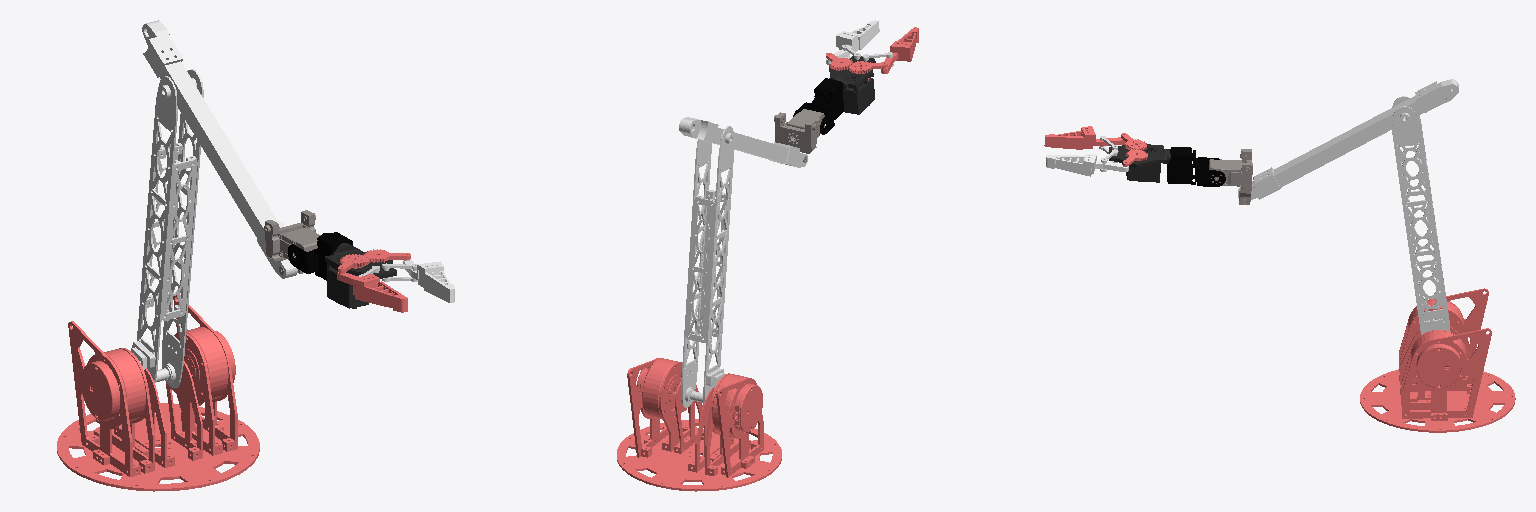
robot.urdf — robot_arm:
<?xml version="1.0" encoding="utf-8"?>
<!-- This URDF was automatically created by SolidWorks to URDF Exporter! Originally created by Stephen Brawner (brawner@gmail.com) 
     Commit Version: 1.6.0-4-g7f85cfe  Build Version: 1.6.7995.38578
     For more information, please see http://wiki.ros.org/sw_urdf_exporter -->
<robot
  name="robot_arm">
  <link
    name="base_link">
    <inertial>
      <origin
        xyz="-7.1599107469289E-07 0.00125850340914114 -0.0109955377241943"
        rpy="0 0 0" />
      <mass
        value="6.24740032536537" />
      <inertia
        ixx="0.0480929190961687"
        ixy="3.0344005395962E-06"
        ixz="6.02223981344259E-10"
        iyy="0.0334121460673024"
        iyz="-3.52627326326953E-08"
        izz="0.0700847502827141" />
    </inertial>
    <visual>
      <origin
        xyz="0 0 0"
        rpy="0 0 0" />
      <geometry>
        <mesh
          filename="meshes/base_link.STL" />
      </geometry>
      <material
        name="">
        <color
          rgba="0.929411764705882 0.929411764705882 0.929411764705882 1" />
      </material>
    </visual>
    <collision>
      <origin
        xyz="0 0 0"
        rpy="0 0 0" />
      <geometry>
        <mesh
          filename="meshes/base_link.STL" />
      </geometry>
    </collision>
  </link>
  <link
    name="Link1">
    <inertial>
      <origin
        xyz="-0.000568394778911234 0.000510407268203998 0.0462089845418148"
        rpy="0 0 0" />
      <mass
        value="0.64013673811769" />
      <inertia
        ixx="0.00103941845053171"
        ixy="7.20624730683044E-06"
        ixz="1.56727223560628E-06"
        iyy="0.000810612959129231"
        iyz="-4.88477486989381E-05"
        izz="0.00125421057808677" />
    </inertial>
    <visual>
      <origin
        xyz="0 0 0"
        rpy="0 0 0" />
      <geometry>
        <mesh
          filename="meshes/Link1.STL" />
      </geometry>
      <material
        name="">
        <color
          rgba="1 0.501960784313725 0.501960784313725 1" />
      </material>
    </visual>
    <collision>
      <origin
        xyz="0 0 0"
        rpy="0 0 0" />
      <geometry>
        <mesh
          filename="meshes/Link1.STL" />
      </geometry>
    </collision>
  </link>
  <joint
    name="joint_1"
    type="revolute">
    <origin
      xyz="0 0 0"
      rpy="0 0 0" />
    <parent
      link="base_link" />
    <child
      link="Link1" />
    <axis
      xyz="0 0 1" />
    <limit
      lower="-6.28"
      upper="6.28"
      effort="100"
      velocity="5" />
  </joint>
  <link
    name="Link2">
    <inertial>
      <origin
        xyz="0.0150698999287542 -0.116804702266282 -0.00392298933781063"
        rpy="0 0 0" />
      <mass
        value="0.174056774495382" />
      <inertia
        ixx="0.00116652312415811"
        ixy="0.00014880980175167"
        ixz="-6.94815069616716E-08"
        iyy="3.84471128451776E-05"
        iyz="5.35737093099818E-07"
        izz="0.00119824224597013" />
    </inertial>
    <visual>
      <origin
        xyz="0 0 0"
        rpy="0 0 0" />
      <geometry>
        <mesh
          filename="meshes/Link2.STL" />
      </geometry>
      <material
        name="">
        <color
          rgba="0.929411764705882 0.929411764705882 0.929411764705882 1" />
      </material>
    </visual>
    <collision>
      <origin
        xyz="0 0 0"
        rpy="0 0 0" />
      <geometry>
        <mesh
          filename="meshes/Link2.STL" />
      </geometry>
    </collision>
  </link>
  <joint
    name="joint_2"
    type="revolute">
    <origin
      xyz="0 0 0.0815"
      rpy="-1.5708 0 -1.5387" />
    <parent
      link="Link1" />
    <child
      link="Link2" />
    <axis
      xyz="0 0 1" />
    <limit
      lower="-3.14"
      upper="3.14"
      effort="100"
      velocity="5" />
  </joint>
  <link
    name="Link3">
    <inertial>
      <origin
        xyz="0.0575274562642535 -0.031495591159611 0.0122785656751549"
        rpy="0 0 0" />
      <mass
        value="0.101805028572906" />
      <inertia
        ixx="8.40216737936915E-05"
        ixy="0.000132400762360107"
        ixz="-9.42361264755749E-07"
        iyy="0.000244439922310472"
        iyz="5.35579573502367E-07"
        izz="0.000319167281177822" />
    </inertial>
    <visual>
      <origin
        xyz="0 0 0"
        rpy="0 0 0" />
      <geometry>
        <mesh
          filename="meshes/Link3.STL" />
      </geometry>
      <material
        name="">
        <color
          rgba="0.929411764705882 0.929411764705882 0.929411764705882 1" />
      </material>
    </visual>
    <collision>
      <origin
        xyz="0 0 0"
        rpy="0 0 0" />
      <geometry>
        <mesh
          filename="meshes/Link3.STL" />
      </geometry>
    </collision>
  </link>
  <joint
    name="joint_3"
    type="revolute">
    <origin
      xyz="0.045016 -0.34709 0.0125"
      rpy="-3.1416 0 0" />
    <parent
      link="Link2" />
    <child
      link="Link3" />
    <axis
      xyz="0 0 1" />
    <limit
      lower="-3.14"
      upper="3.14"
      effort="100"
      velocity="5" />
  </joint>
  <link
    name="Link4">
    <inertial>
      <origin
        xyz="0.0117492142295084 -0.0304843511220854 -0.00303190404653959"
        rpy="0 0 0" />
      <mass
        value="0.0672771461686466" />
      <inertia
        ixx="1.66499334850355E-05"
        ixy="-1.77706988105153E-07"
        ixz="-1.86235227610271E-07"
        iyy="1.5984012997816E-05"
        iyz="-1.26109125103786E-06"
        izz="1.31759381275724E-05" />
    </inertial>
    <visual>
      <origin
        xyz="0 0 0"
        rpy="0 0 0" />
      <geometry>
        <mesh
          filename="meshes/Link4.STL" />
      </geometry>
      <material
        name="">
        <color
          rgba="0.643137254901961 0.615686274509804 0.6 1" />
      </material>
    </visual>
    <collision>
      <origin
        xyz="0 0 0"
        rpy="0 0 0" />
      <geometry>
        <mesh
          filename="meshes/Link4.STL" />
      </geometry>
    </collision>
  </link>
  <joint
    name="joint_4"
    type="revolute">
    <origin
      xyz="0.21646 -0.12001 0.00875"
      rpy="-3.1416 0 0" />
    <parent
      link="Link3" />
    <child
      link="Link4" />
    <axis
      xyz="0 0 -1" />
    <limit
      lower="-3.14"
      upper="3.14"
      effort="100"
      velocity="5" />
  </joint>
  <link
    name="Link5">
    <inertial>
      <origin
        xyz="0.0395390076122797 -0.00856799711636441 -0.020249999184851"
        rpy="0 0 0" />
      <mass
        value="0.0508906638155019" />
      <inertia
        ixx="1.17641499644766E-05"
        ixy="-1.92624994144055E-07"
        ixz="-1.17429445175763E-13"
        iyy="9.39232061741062E-06"
        iyz="6.84722031709346E-13"
        izz="1.08690013894524E-05" />
    </inertial>
    <visual>
      <origin
        xyz="0 0 0"
        rpy="0 0 0" />
      <geometry>
        <mesh
          filename="meshes/Link5.STL" />
      </geometry>
      <material
        name="">
        <color
          rgba="0.0549019607843137 0.0549019607843137 0.0549019607843137 1" />
      </material>
    </visual>
    <collision>
      <origin
        xyz="0 0 0"
        rpy="0 0 0" />
      <geometry>
        <mesh
          filename="meshes/Link5.STL" />
      </geometry>
    </collision>
  </link>
  <joint
    name="joint_5"
    type="revolute">
    <origin
      xyz="0.038094 -0.03378 0.0165"
      rpy="0 0 0" />
    <parent
      link="Link4" />
    <child
      link="Link5" />
    <axis
      xyz="0 0 -1" />
    <limit
      lower="-3.14"
      upper="3.14"
      effort="100"
      velocity="5" />
  </joint>
  <link
    name="Link6">
    <inertial>
      <origin
        xyz="-0.0097183346246361 -0.0142569912995989 0.0338118201409601"
        rpy="0 0 0" />
      <mass
        value="0.0601919812865776" />
      <inertia
        ixx="1.89200868180792E-05"
        ixy="1.56547442657671E-07"
        ixz="-6.90222994732728E-07"
        iyy="2.17778439397365E-05"
        iyz="8.11159519962616E-08"
        izz="8.95731972665522E-06" />
    </inertial>
    <visual>
      <origin
        xyz="0 0 0"
        rpy="0 0 0" />
      <geometry>
        <mesh
          filename="meshes/Link6.STL" />
      </geometry>
      <material
        name="">
        <color
          rgba="0.223529411764706 0.223529411764706 0.223529411764706 1" />
      </material>
    </visual>
    <collision>
      <origin
        xyz="0 0 0"
        rpy="0 0 0" />
      <geometry>
        <mesh
          filename="meshes/Link6.STL" />
      </geometry>
    </collision>
  </link>
  <joint
    name="joint_6"
    type="continuous">
    <origin
      xyz="0.062594 -0.024458 -0.02025"
      rpy="1.5708 -1.5688 1.5083" />
    <parent
      link="Link5" />
    <child
      link="Link6" />
    <axis
      xyz="0 0 -1" />
    <limit
      lower="-3.14"
      upper="3.14"
      effort="100"
      velocity="5" />
  </joint>
  <link
    name="Gripper_r1">
    <inertial>
      <origin
        xyz="-0.00163954393195587 -0.00106792080416862 -0.00711013782523728"
        rpy="0 0 0" />
      <mass
        value="0.00916928392643402" />
      <inertia
        ixx="4.26698030340575E-07"
        ixy="-1.55833801652984E-07"
        ixz="9.39329294014715E-10"
        iyy="5.64441862452461E-07"
        iyz="6.11834349474997E-10"
        izz="9.06263312697586E-07" />
    </inertial>
    <visual>
      <origin
        xyz="0 0 0"
        rpy="0 0 0" />
      <geometry>
        <mesh
          filename="meshes/Gripper_r1.STL" />
      </geometry>
      <material
        name="">
        <color
          rgba="1 0.501960784313725 0.501960784313725 1" />
      </material>
    </visual>
    <collision>
      <origin
        xyz="0 0 0"
        rpy="0 0 0" />
      <geometry>
        <mesh
          filename="meshes/Gripper_r1.STL" />
      </geometry>
    </collision>
  </link>
  <joint
    name="gripper_r1"
    type="revolute">
    <origin
      xyz="-0.013635 0.0082524 0.046249"
      rpy="-1.5708 -0.03209 -0.054314" />
    <parent
      link="Link6" />
    <child
      link="Gripper_r1" />
    <axis
      xyz="0 0 -1" />
    <limit
      lower="-3.14"
      upper="3.14"
      effort="100"
      velocity="5" />
  </joint>
  <link
    name="Gripper_r2">
    <inertial>
      <origin
        xyz="0.00571251433975346 -0.0534984091319124 -0.00629721259972388"
        rpy="0 0 0" />
      <mass
        value="0.0175847099698872" />
      <inertia
        ixx="6.12634724510503E-06"
        ixy="7.41837921244537E-07"
        ixz="3.38372597176697E-08"
        iyy="1.20812488979288E-06"
        iyz="3.75630919669021E-07"
        izz="6.51168301283239E-06" />
    </inertial>
    <visual>
      <origin
        xyz="0 0 0"
        rpy="0 0 0" />
      <geometry>
        <mesh
          filename="meshes/Gripper_r2.STL" />
      </geometry>
      <material
        name="">
        <color
          rgba="1 0.501960784313725 0.501960784313725 1" />
      </material>
    </visual>
    <collision>
      <origin
        xyz="0 0 0"
        rpy="0 0 0" />
      <geometry>
        <mesh
          filename="meshes/Gripper_r2.STL" />
      </geometry>
    </collision>
  </link>
  <joint
    name="gripper_r2"
    type="revolute">
    <origin
      xyz="-0.025138 -0.016374 0.0005"
      rpy="0 0 0" />
    <parent
      link="Gripper_r1" />
    <child
      link="Gripper_r2" />
    <axis
      xyz="0 0 -1" />
    <limit
      lower="-3.14"
      upper="3.14"
      effort="100"
      velocity="5" />
  </joint>
  <link
    name="Gripper_r3">
    <inertial>
      <origin
        xyz="-0.0125688816448849 -0.00818677068182927 -0.00700000000000006"
        rpy="0 0 0" />
      <mass
        value="0.00484894793059684" />
      <inertia
        ixx="1.26558488022796E-07"
        ixy="-1.65623554727215E-07"
        ixz="1.19482362074164E-22"
        iyy="2.72955629555206E-07"
        iyz="6.1211365328924E-23"
        izz="3.92240695682107E-07" />
    </inertial>
    <visual>
      <origin
        xyz="0 0 0"
        rpy="0 0 0" />
      <geometry>
        <mesh
          filename="meshes/Gripper_r3.STL" />
      </geometry>
      <material
        name="">
        <color
          rgba="0.929411764705882 0.929411764705882 0.929411764705882 1" />
      </material>
    </visual>
    <collision>
      <origin
        xyz="0 0 0"
        rpy="0 0 0" />
      <geometry>
        <mesh
          filename="meshes/Gripper_r3.STL" />
      </geometry>
    </collision>
  </link>
  <joint
    name="gripper_r3"
    type="revolute">
    <origin
      xyz="-0.0059086 0.0073316 0.075227"
      rpy="-1.5708 -0.03209 -0.054314" />
    <parent
      link="Link6" />
    <child
      link="Gripper_r3" />
    <axis
      xyz="0 0 1" />
    <limit
      lower="-3.14"
      upper="3.14"
      effort="100"
      velocity="5" />
  </joint>
  <link
    name="Gripper_l1">
    <inertial>
      <origin
        xyz="0.00333324693624045 -0.00187904286301194 -0.000870884922481385"
        rpy="0 0 0" />
      <mass
        value="0.00443618310748828" />
      <inertia
        ixx="2.2930269418169E-07"
        ixy="1.49340427743899E-07"
        ixz="-9.91421868918675E-10"
        iyy="4.10158337597392E-07"
        iyz="5.58615473574107E-10"
        izz="6.28344614686401E-07" />
    </inertial>
    <visual>
      <origin
        xyz="0 0 0"
        rpy="0 0 0" />
      <geometry>
        <mesh
          filename="meshes/Gripper_l1.STL" />
      </geometry>
      <material
        name="">
        <color
          rgba="1 0.501960784313725 0.501960784313725 1" />
      </material>
    </visual>
    <collision>
      <origin
        xyz="0 0 0"
        rpy="0 0 0" />
      <geometry>
        <mesh
          filename="meshes/Gripper_l1.STL" />
      </geometry>
    </collision>
  </link>
  <joint
    name="gripper_l1"
    type="revolute">
    <origin
      xyz="0.014449 0.0067255 0.046249"
      rpy="-1.5708 -0.03209 -0.054314" />
    <parent
      link="Link6" />
    <child
      link="Gripper_l1" />
    <axis
      xyz="0 0 -1" />
    <limit
      lower="-3.14"
      upper="3.14"
      effort="100"
      velocity="5" />
  </joint>
  <link
    name="Gripper_l2">
    <inertial>
      <origin
        xyz="-0.00226957487613926 -0.0537546369330982 -0.00629721394551225"
        rpy="0 0 0" />
      <mass
        value="0.0175847183743047" />
      <inertia
        ixx="6.20107764121065E-06"
        ixy="-4.20948616839843E-07"
        ixz="-5.78590870688957E-08"
        iyy="1.1333945874112E-06"
        iyz="3.72686896193447E-07"
        izz="6.51168291971746E-06" />
    </inertial>
    <visual>
      <origin
        xyz="0 0 0"
        rpy="0 0 0" />
      <geometry>
        <mesh
          filename="meshes/Gripper_l2.STL" />
      </geometry>
      <material
        name="">
        <color
          rgba="1 1 1 1" />
      </material>
    </visual>
    <collision>
      <origin
        xyz="0 0 0"
        rpy="0 0 0" />
      <geometry>
        <mesh
          filename="meshes/Gripper_l2.STL" />
      </geometry>
    </collision>
  </link>
  <joint
    name="gripper_l2"
    type="revolute">
    <origin
      xyz="0.026136 -0.014728 0.0005"
      rpy="0 0 0" />
    <parent
      link="Gripper_l1" />
    <child
      link="Gripper_l2" />
    <axis
      xyz="0 0 -1" />
    <limit
      lower="-3.14"
      upper="3.14"
      effort="100"
      velocity="5" />
  </joint>
  <link
    name="Gripper_l3">
    <inertial>
      <origin
        xyz="0.0130680717794531 -0.00736379657289782 -0.00700000000000001"
        rpy="0 0 0" />
      <mass
        value="0.00484894793059684" />
      <inertia
        ixx="1.05959530243457E-07"
        ixy="1.54890981924197E-07"
        ixz="9.33292375507096E-23"
        iyy="2.93554587334544E-07"
        iyz="-6.28657265540301E-23"
        izz="3.92240695682106E-07" />
    </inertial>
    <visual>
      <origin
        xyz="0 0 0"
        rpy="0 0 0" />
      <geometry>
        <mesh
          filename="meshes/Gripper_l3.STL" />
      </geometry>
      <material
        name="">
        <color
          rgba="0.929411764705882 0.929411764705882 0.929411764705882 1" />
      </material>
    </visual>
    <collision>
      <origin
        xyz="0 0 0"
        rpy="0 0 0" />
      <geometry>
        <mesh
          filename="meshes/Gripper_l3.STL" />
      </geometry>
    </collision>
  </link>
  <joint
    name="gripper_l3"
    type="revolute">
    <origin
      xyz="0.0066687 0.0066478 0.075227"
      rpy="-1.5708 -0.03209 -0.054314" />
    <parent
      link="Link6" />
    <child
      link="Gripper_l3" />
    <axis
      xyz="0 0 1" />
    <limit
      lower="-3.14"
      upper="3.14"
      effort="100"
      velocity="5" />
  </joint>
  <!-- Tool Center Point (grasp center): fixed frame for IK/FK, placed 8 cm outward from the
       midpoint of the two distal fingertip frames (Gripper_l3/r3), expressed in Link6's local
       frame. Added for the Lula solver only; the physics articulation has no matching prim. -->
  <link name="tool_center" />
  <joint
    name="tool_center_joint"
    type="fixed">
    <origin
      xyz="0.0004 0.007 0.1552"
      rpy="0 0 0" />
    <parent
      link="Link6" />
    <child
      link="tool_center" />
  </joint>
</robot>

--- Render facts (derived) ---
3 views of the same robot in one strip: view 1: azimuth 30°, elevation 25°; view 2: azimuth 150°, elevation 25°; view 3: azimuth 270°, elevation 25° (orthographic).
Robot: robot_arm — 14 links, 13 joints (11 revolute, 1 continuous, 1 fixed); root link base_link; default pose: every joint at zero.
Links seen in each view (by area): view 1: Link1, Link2, Link3, Link4, Link6, Gripper_r2, Link5, Gripper_l2; view 2: Link1, Link2, Link3, Link4, Link6, Link5, Gripper_l2, Gripper_r2; view 3: Link1, Link2, Link3, Link5, Link4, Link6, Gripper_l2, Gripper_r2.
Boxes of the visible links, box(x1,y1,x2,y2) form: Link1: box(57, 295, 259, 491); Link2: box(131, 69, 203, 388); Link3: box(142, 20, 297, 278); Link4: box(264, 210, 320, 274); Link6: box(325, 243, 396, 308); Gripper_r2: box(337, 272, 407, 312); Link5: box(288, 232, 352, 280); Gripper_l2: box(403, 259, 454, 302); Link1: box(617, 358, 781, 491); Link2: box(681, 121, 733, 407); Link3: box(679, 117, 807, 167); Link4: box(774, 109, 824, 162); Link6: box(829, 55, 875, 114); Link5: box(793, 78, 843, 134); Gripper_l2: box(826, 20, 879, 64); Gripper_r2: box(881, 27, 918, 73); Link1: box(1360, 288, 1515, 432); Link2: box(1392, 96, 1450, 334); Link3: box(1238, 79, 1458, 199); Link5: box(1167, 147, 1225, 186); Link4: box(1209, 149, 1252, 204); Link6: box(1109, 144, 1170, 182); Gripper_l2: box(1046, 154, 1128, 176); Gripper_r2: box(1044, 126, 1125, 149).
Bounding box of the posed robot: 0.2105 × 0.6373 × 0.4773 m (x, y, z).
Meshes: 13 distinct files referenced, 12 mesh visuals loaded (12 binary STL); not drawn: 1 (reference not matched to a file when rendering).
